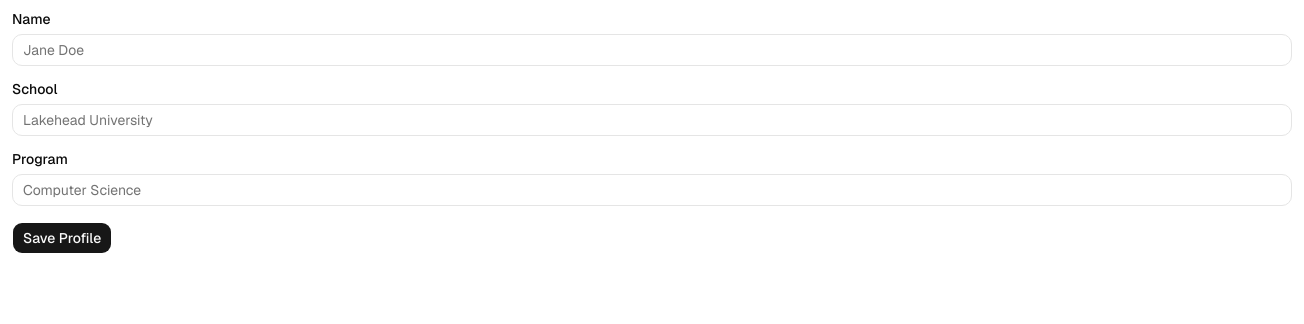
Scenario: ProfileDetailsForm (us-11) › submits the entered details and shows a success message
The width and height of the screenshot is (1304, 324).
Type "Jane" into the field labelled "Name" at {"x": 652, "y": 50}, box [12,34,1292,66]
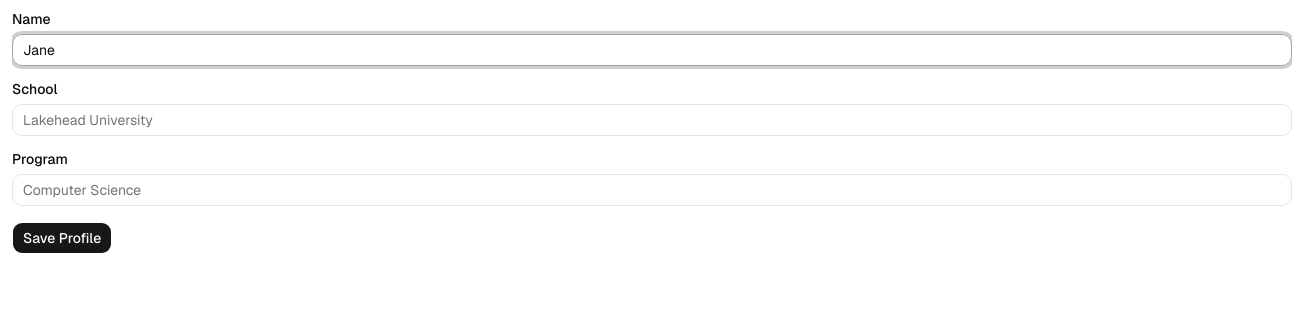
Click the button "Save Profile" at {"x": 62, "y": 238}, box [12,222,112,254]
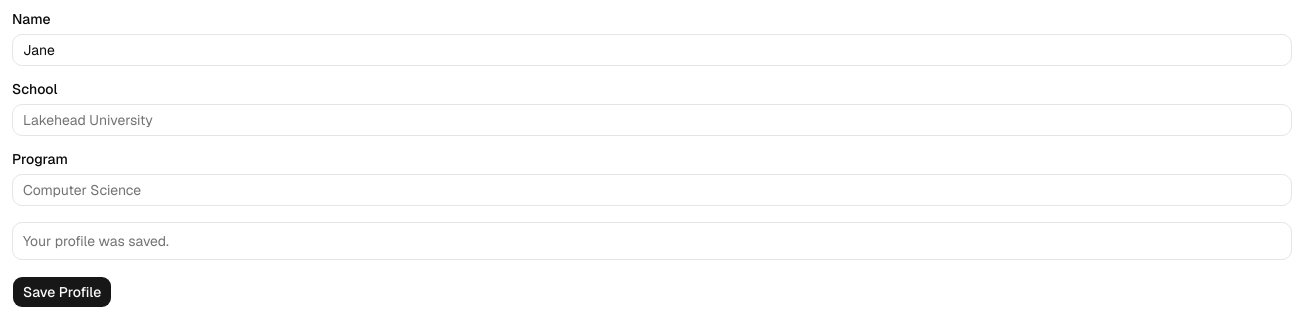
Expected: the text "Your profile was saved." is shown, [23,232,169,250]
